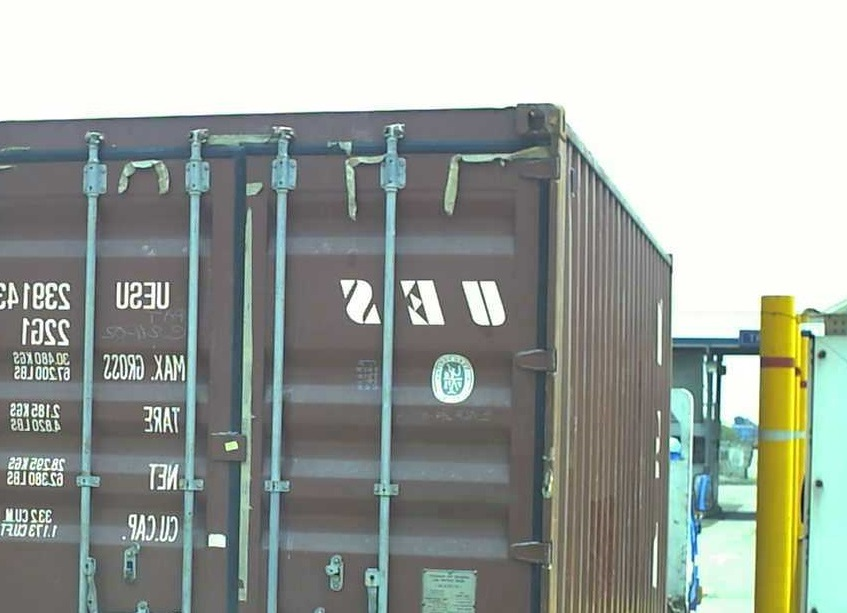container_door: (1, 93, 562, 609)
